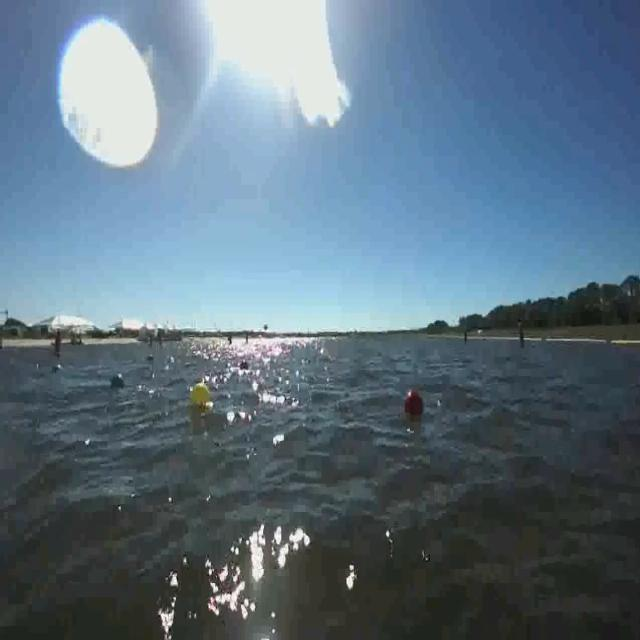red-buoy: (406, 392, 424, 417)
yellow-buoy: (190, 378, 213, 414)
